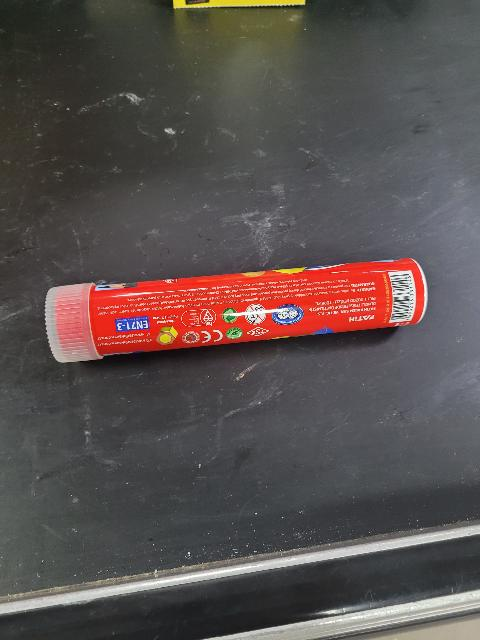Metal: (102, 257, 432, 354)
Plastik: (43, 274, 102, 371)
